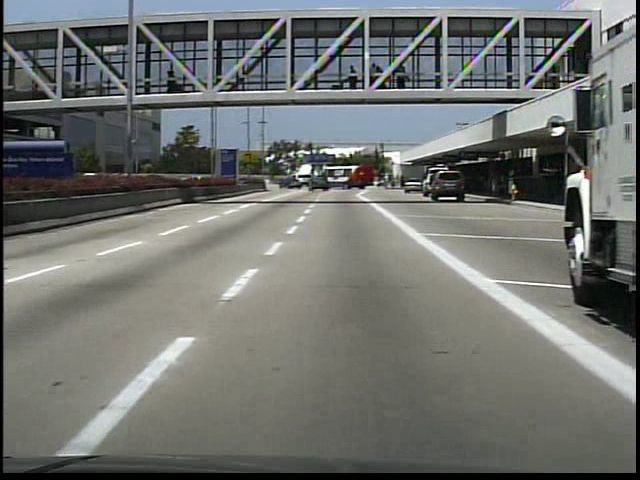person: (344, 60, 362, 93), (165, 67, 183, 95), (488, 169, 503, 200)
